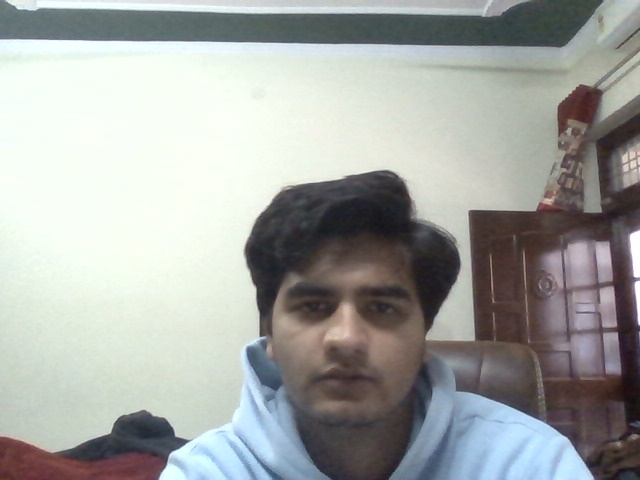fear: (289, 265, 413, 414)
